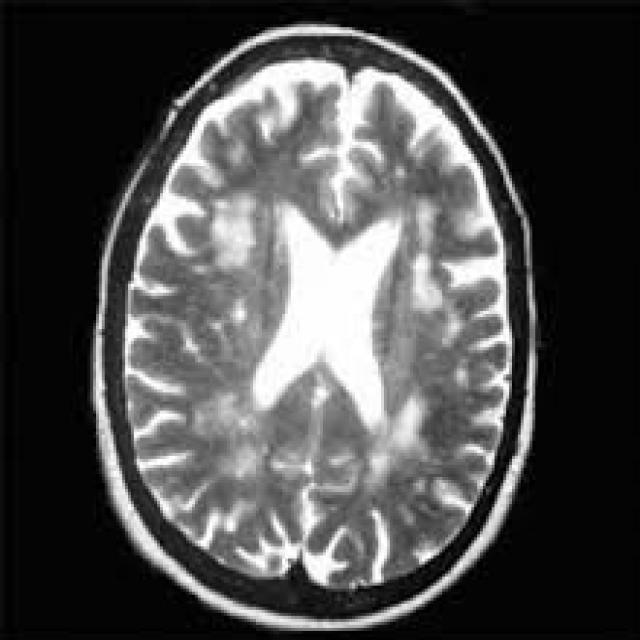notumor: (93, 24, 529, 628)
